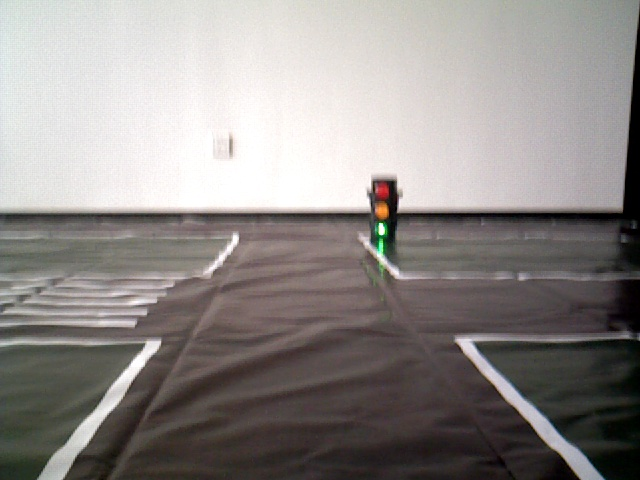green: (368, 181, 393, 240)
